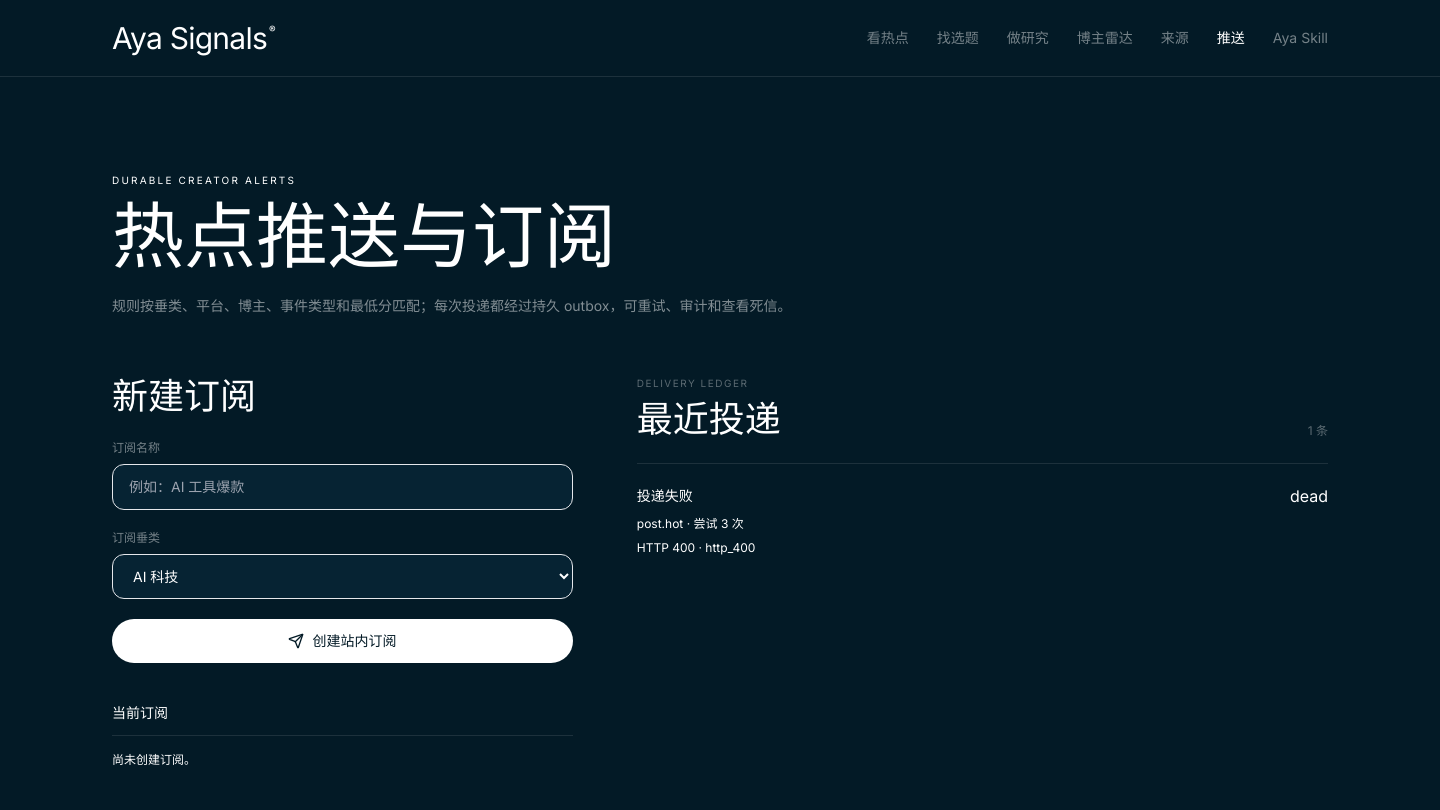
Creator Intelligence workspaces › shows failed delivery details and creates a vertical subscription
The image size is (1440, 810).
Expected: the heading "投递失败" is shown, [637,486,693,506]
Expected: the text "HTTP 400 · http_400" is shown, [637,540,755,555]
In the field labelled "订阅名称": (342, 487) [112,464,573,510], type "AI 每日爆款"
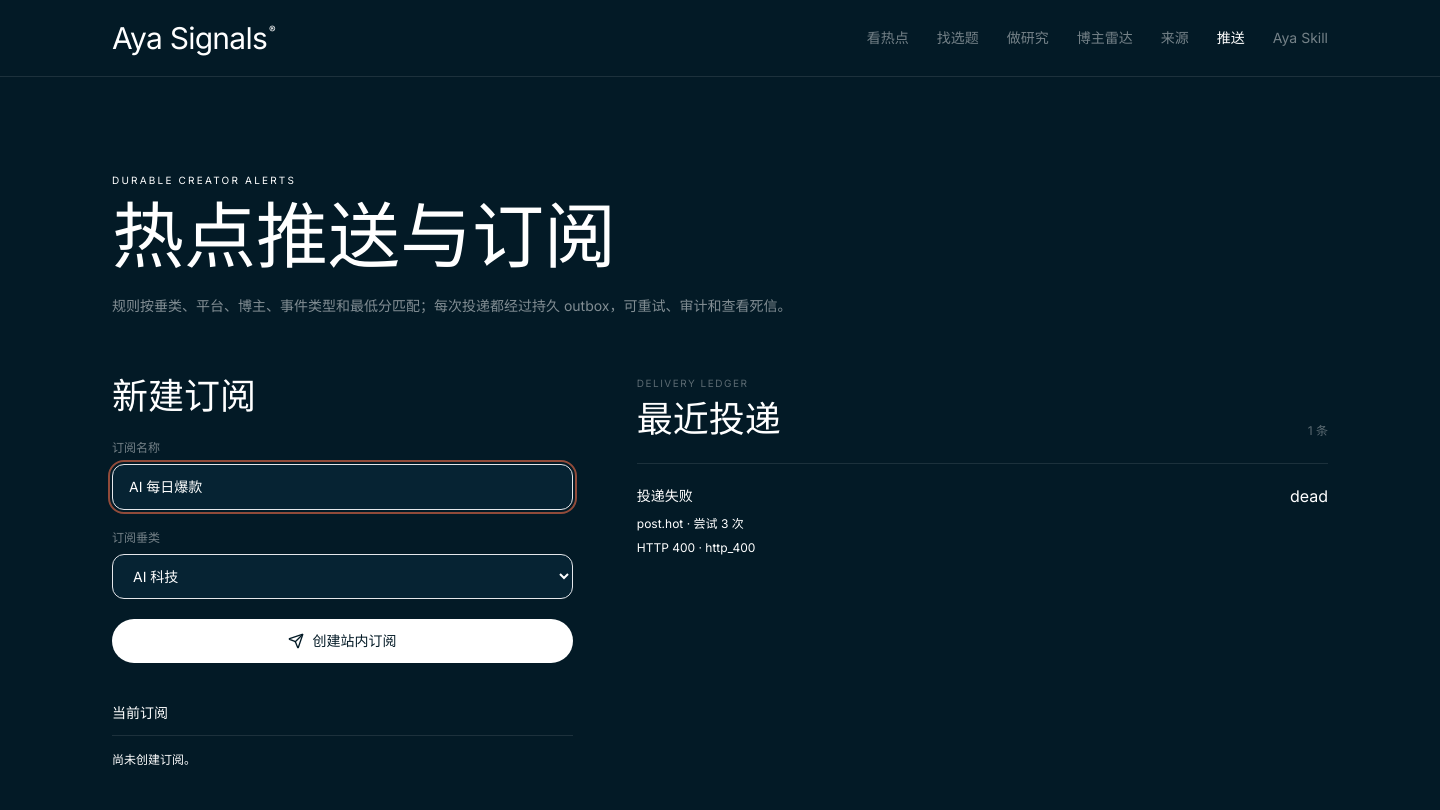
Select "AI 科技" in the dropdown labelled "订阅垂类": (342, 576) [112,554,573,599]
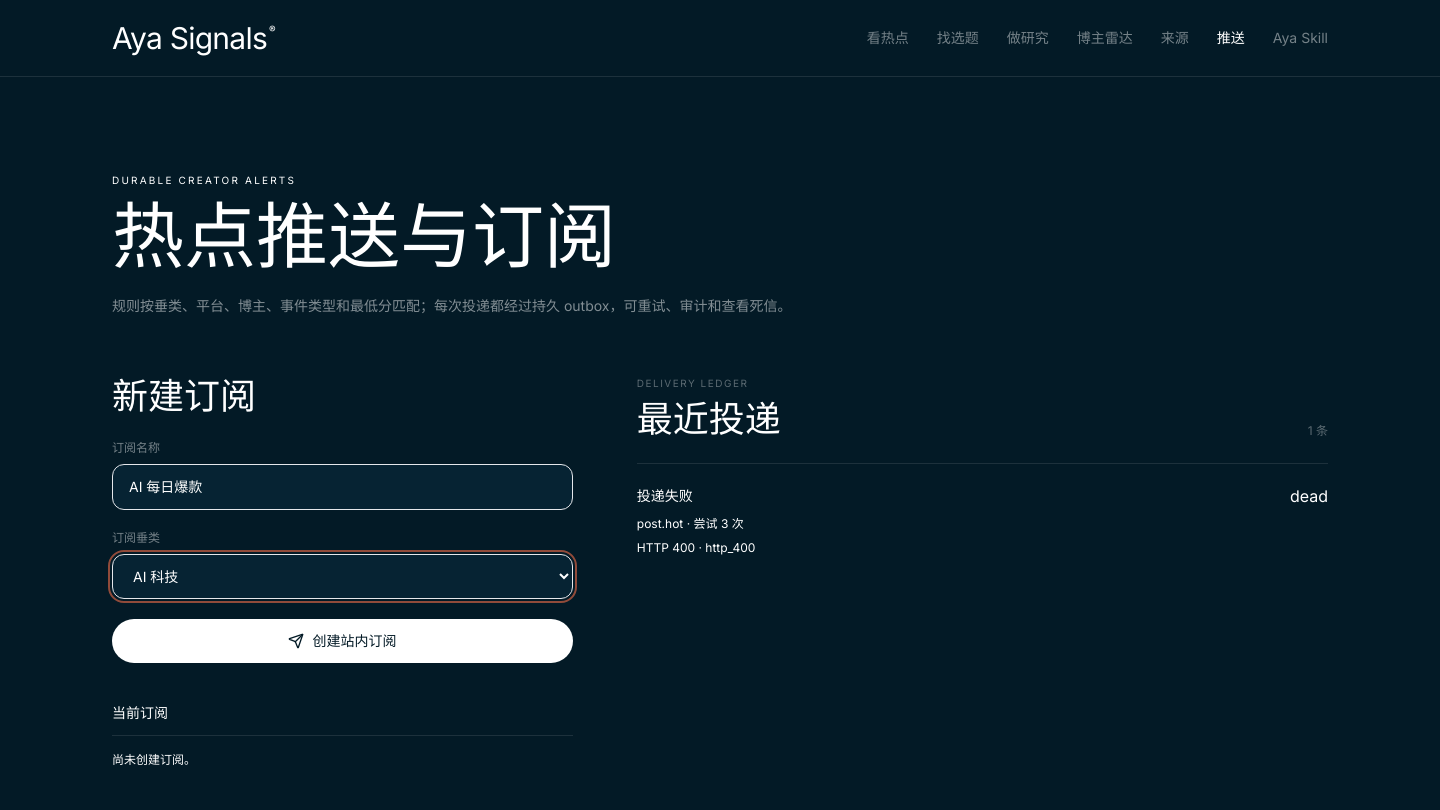
Click the button "创建站内订阅": (342, 641) [112,619,573,663]
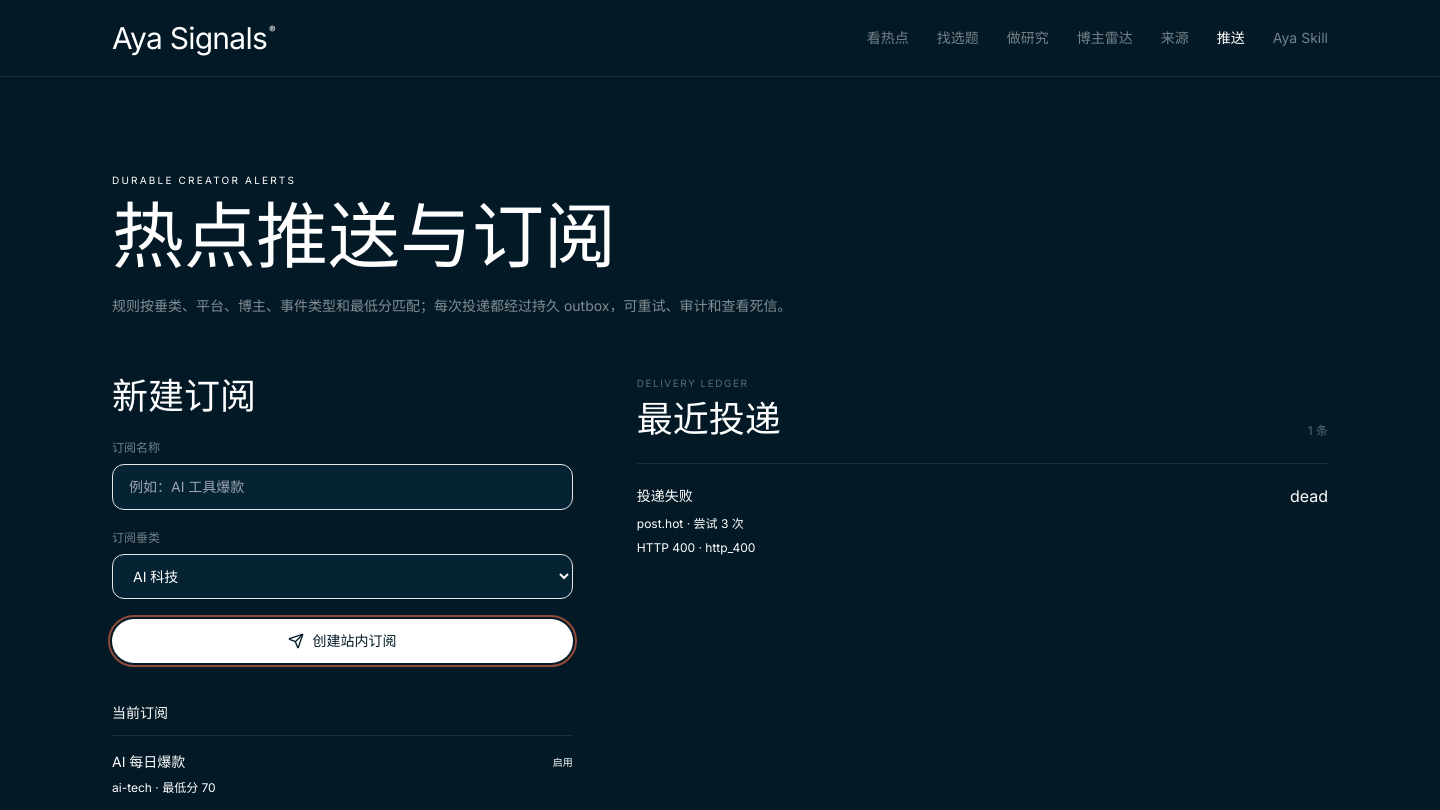
Result: the text "AI 每日爆款" is shown at [112,752,185,772]
Result: the text "ai-tech · 最低分 70" is shown at [112,780,216,795]
